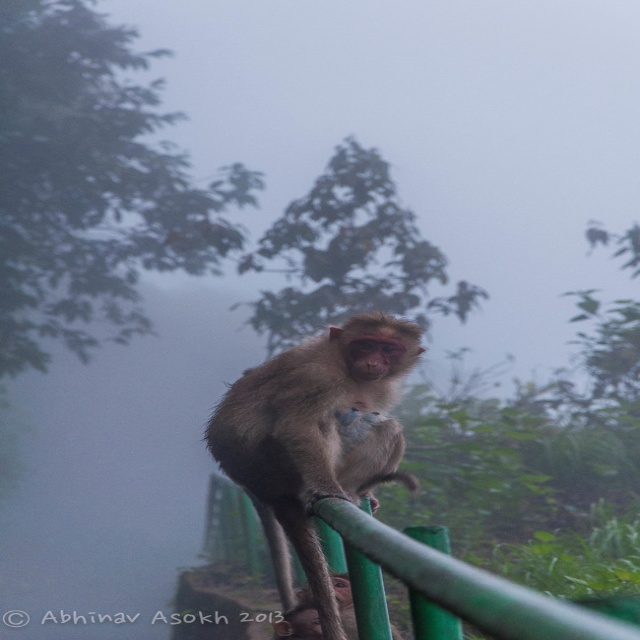Monkey: (206, 310, 433, 629)
